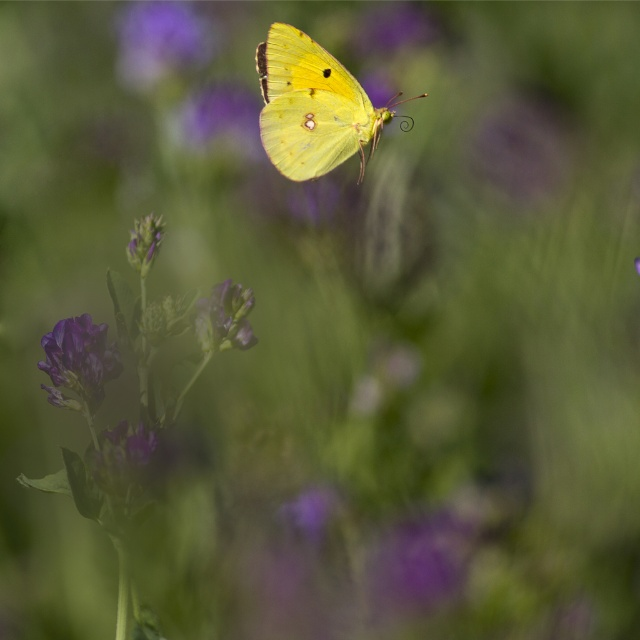Butterfly: (248, 5, 423, 185)
